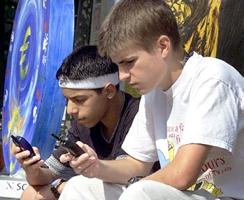person: (59, 1, 244, 200)
